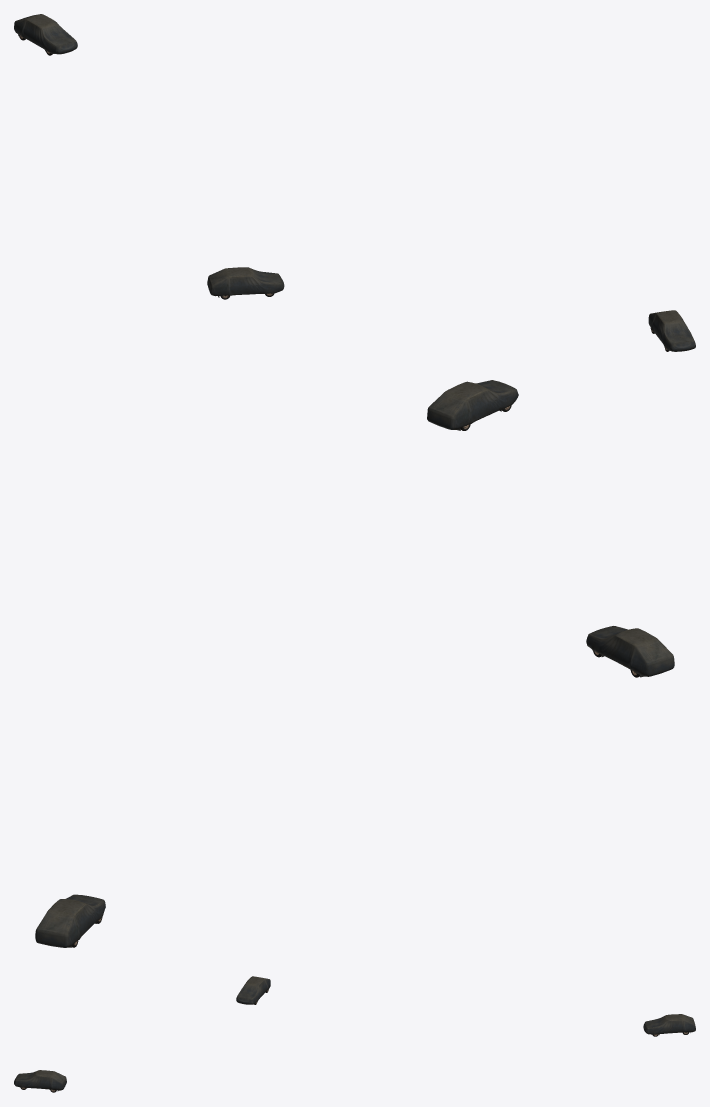
File: SM_PH_covered_car.fbx
The picture shows the model from 3 angles, top to bottom: view 1: azimuth 30°, elevation 25°; view 2: azimuth 150°, elevation 25°; view 3: azimuth 270°, elevation 25°; orthographic projection. The views are drawn at different scales.
Parts seen in each view (by area): view 1: SM_PH_covered_car; view 2: SM_PH_covered_car; view 3: SM_PH_covered_car.
Boxes of the visible parts, x1,y1,x2,y2 form: SM_PH_covered_car: [14, 14, 695, 351]; SM_PH_covered_car: [35, 380, 674, 947]; SM_PH_covered_car: [14, 976, 695, 1092].
Bounding box in the file's own units: 21.46 × 57.54 × 1.41.
2 materials, 2 textured.
